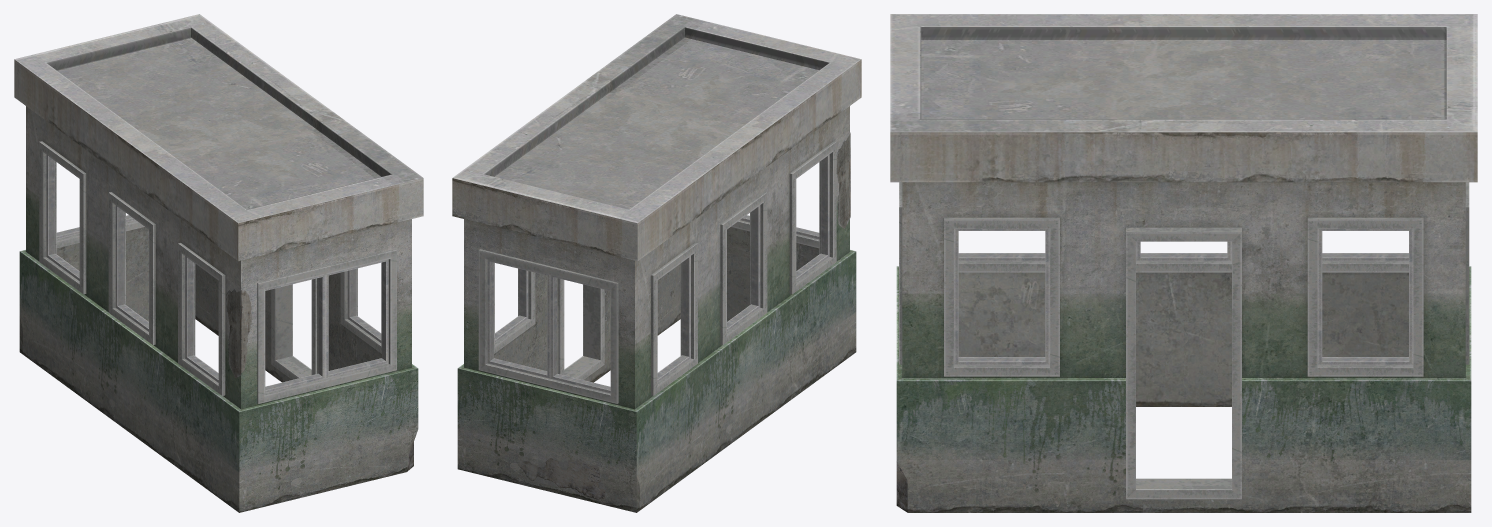
Rendered from Building_Mws02.glb.
3 views of the same model, side by side, from view 1: azimuth 30°, elevation 25°; view 2: azimuth 150°, elevation 25°; view 3: azimuth 270°, elevation 25° (orthographic). The views are drawn at different scales.
Parts seen in each view (by area): view 1: xiutz_mws_02; view 2: xiutz_mws_02; view 3: xiutz_mws_02.
Part boxes in pixels (x1,y1,x2,y2): xiutz_mws_02: (14, 14, 423, 512); xiutz_mws_02: (452, 14, 861, 512); xiutz_mws_02: (890, 14, 1477, 512).
Bounding box in the file's own units: 3.42 × 5.14 × 7.15.
1 material, 1 textured.
